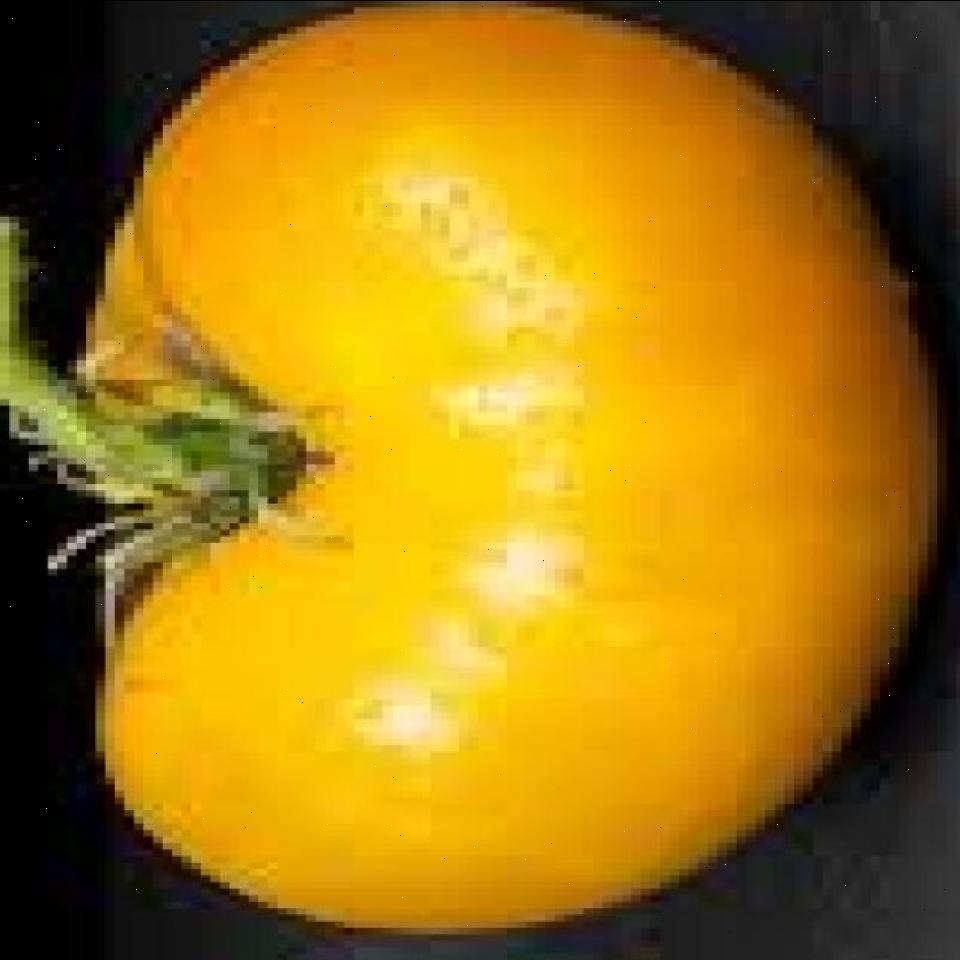Healthy: (76, 2, 930, 958)
